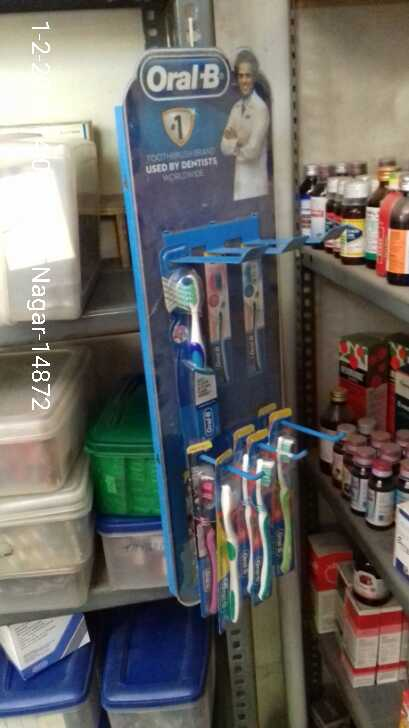oralb: (159, 240, 224, 436)
